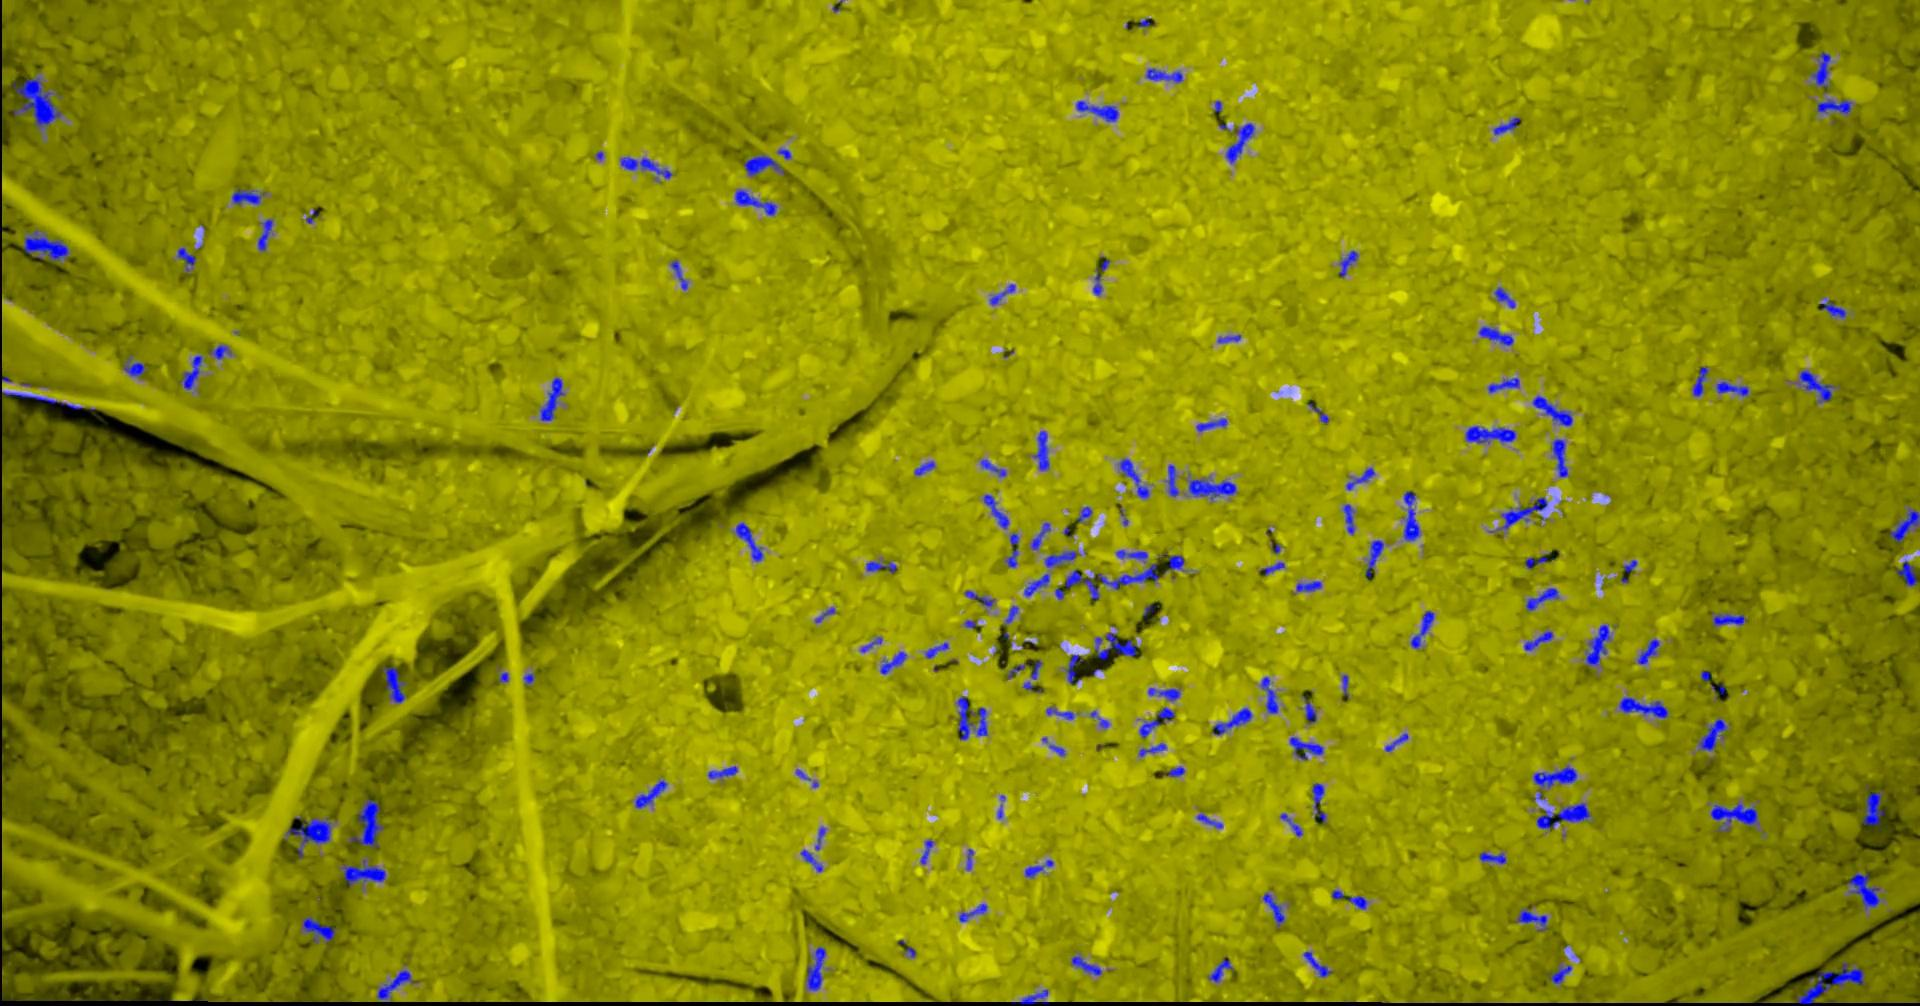ant: (1057, 563, 1161, 600), (1796, 962, 1865, 1005), (287, 817, 333, 857), (350, 799, 385, 847), (1498, 497, 1549, 528), (1538, 801, 1592, 831), (1534, 765, 1578, 799), (1, 391, 85, 409), (24, 230, 70, 260), (957, 696, 989, 739), (1712, 803, 1760, 831), (378, 969, 419, 1002), (1801, 370, 1840, 401), (1096, 633, 1140, 661), (343, 859, 387, 887), (1534, 395, 1575, 426), (1849, 871, 1881, 909), (1227, 122, 1256, 163), (1190, 475, 1238, 499), (1121, 459, 1150, 498), (1213, 708, 1255, 734), (737, 522, 764, 561), (622, 156, 673, 178), (541, 377, 566, 420), (737, 189, 778, 215), (1620, 696, 1669, 718), (1587, 624, 1611, 666), (1890, 508, 1920, 541), (1142, 708, 1176, 737), (303, 916, 339, 942), (1699, 718, 1728, 749), (636, 779, 669, 807), (1467, 426, 1517, 443), (383, 666, 408, 702), (1811, 51, 1832, 91), (1077, 100, 1120, 121), (1412, 610, 1435, 648), (745, 154, 785, 175), (180, 354, 204, 389), (985, 494, 1010, 528), (808, 946, 827, 989), (1404, 492, 1421, 540), (1291, 735, 1324, 760), (1263, 892, 1286, 926), (1305, 951, 1335, 977), (1864, 791, 1886, 826), (1528, 587, 1559, 610), (1517, 908, 1549, 931), (1333, 889, 1368, 909), (1368, 539, 1385, 577), (1209, 956, 1236, 982), (1347, 467, 1377, 490), (1262, 676, 1280, 713), (1481, 326, 1515, 345), (1035, 431, 1051, 470), (1553, 438, 1570, 478), (1073, 955, 1103, 976), (1025, 573, 1051, 596), (1638, 638, 1661, 664), (881, 652, 908, 674), (1095, 258, 1111, 295), (1013, 989, 1051, 1005), (990, 283, 1017, 305), (1525, 631, 1554, 650), (672, 259, 690, 290), (1313, 782, 1327, 821), (1718, 380, 1750, 396), (1046, 550, 1078, 567), (1818, 99, 1853, 114), (801, 848, 824, 871), (1067, 654, 1084, 683), (1026, 859, 1055, 876), (960, 903, 989, 921), (1822, 297, 1848, 318), (1897, 560, 1917, 586), (1147, 69, 1183, 83), (1340, 250, 1359, 277), (1032, 522, 1051, 549), (232, 189, 265, 205), (1283, 813, 1304, 836), (259, 218, 274, 250), (1490, 377, 1521, 392), (982, 459, 1007, 478), (1526, 553, 1556, 569), (966, 589, 996, 606), (179, 246, 197, 273), (1496, 286, 1517, 307), (1694, 366, 1709, 396), (1495, 117, 1523, 133), (1385, 732, 1410, 751), (1309, 401, 1330, 423), (1007, 532, 1020, 567), (1714, 614, 1749, 626), (1550, 964, 1573, 983), (709, 765, 739, 779), (124, 358, 147, 376), (1197, 813, 1224, 828), (1197, 418, 1229, 431), (1117, 549, 1149, 561), (1149, 687, 1181, 700), (926, 641, 950, 658), (1140, 742, 1167, 756), (1343, 504, 1356, 533), (1168, 464, 1180, 495), (1261, 561, 1286, 575), (869, 560, 898, 572), (211, 344, 232, 359), (1048, 708, 1076, 719), (1008, 663, 1027, 680), (1091, 710, 1110, 727), (916, 460, 936, 475), (1481, 851, 1507, 862), (817, 607, 836, 622), (1305, 700, 1318, 723), (922, 840, 935, 862), (1030, 659, 1044, 680), (1297, 580, 1323, 591), (1006, 605, 1020, 624), (1078, 506, 1095, 521), (817, 826, 827, 848), (1170, 555, 1186, 569), (1164, 766, 1186, 776), (1219, 334, 1242, 342)
